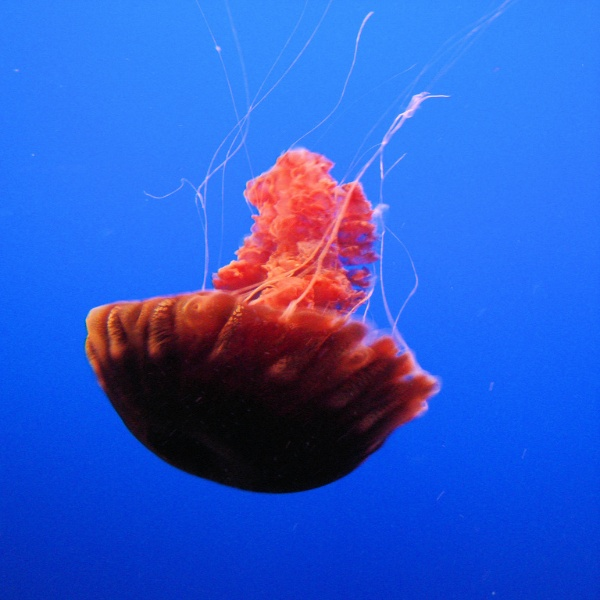Jellyfish: (81, 0, 514, 492)
